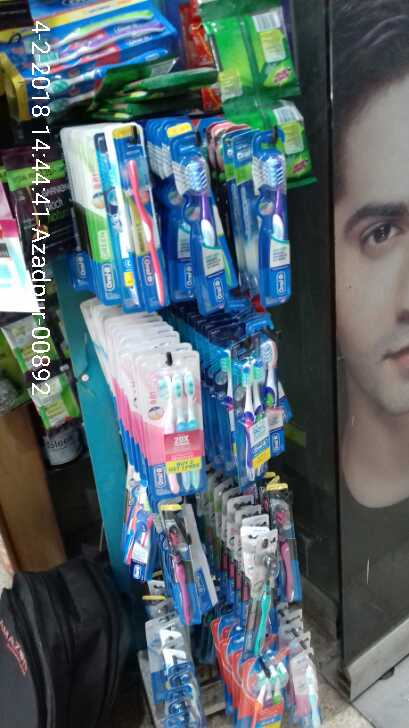oralb: (105, 139, 168, 312), (238, 150, 302, 302), (223, 347, 288, 465), (184, 158, 228, 315), (156, 365, 209, 492)
